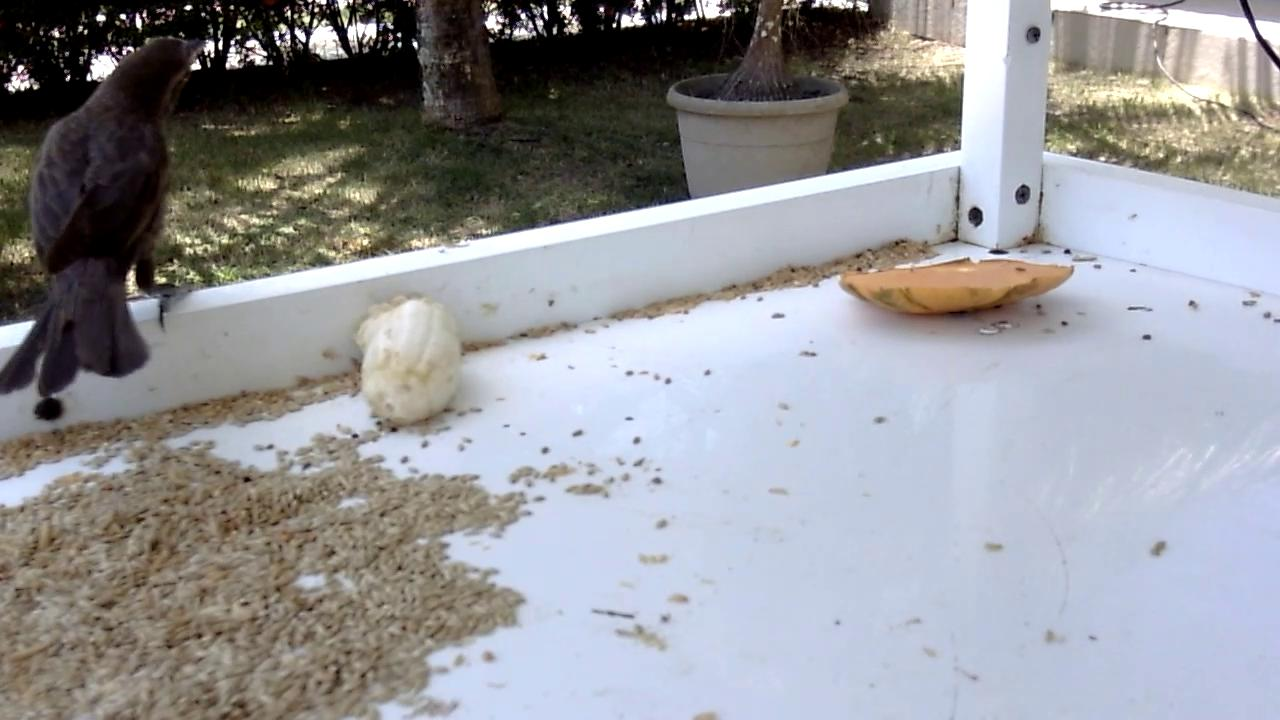chupim: (1, 34, 209, 403)
